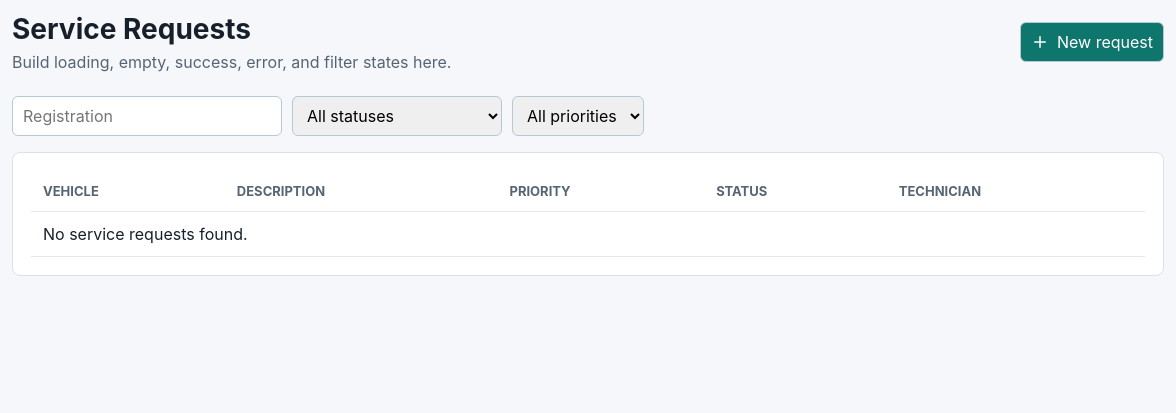
ServiceRequestsPage training exercises › shows success feedback and reloads requests after opening a request
Click the button "New request" at (1092, 42), box [1020,22,1164,62]
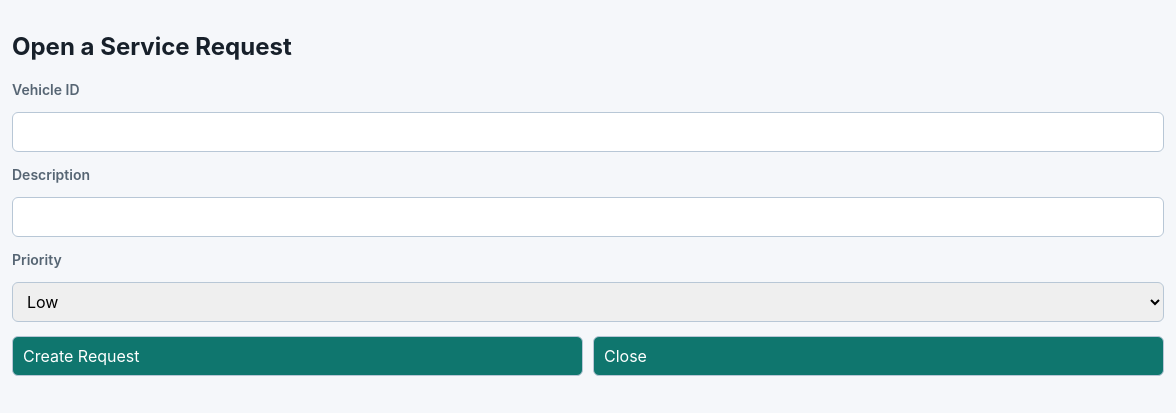
Type "550e8400-e29b-41d4-a716-446655440000" into the field labelled "Vehicle ID" at (588, 132), box [12,112,1164,152]
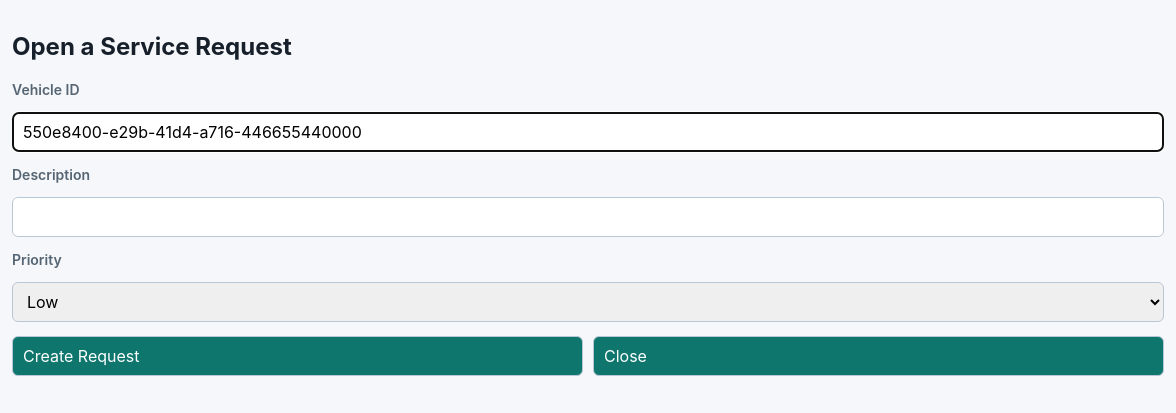
Type "Investigate brake noise" into the field labelled "Description" at (588, 217), box [12,197,1164,237]
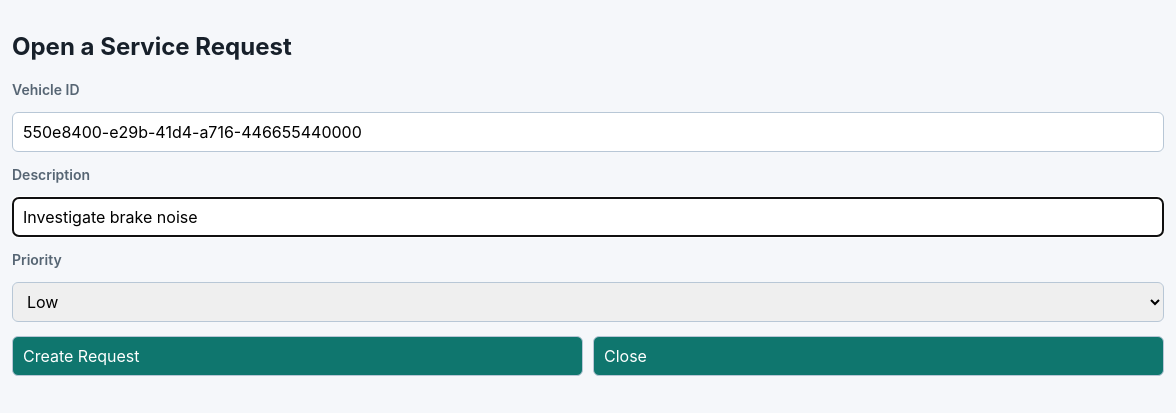
Click the button "Create Request" at (81, 356), box [12,336,583,376]
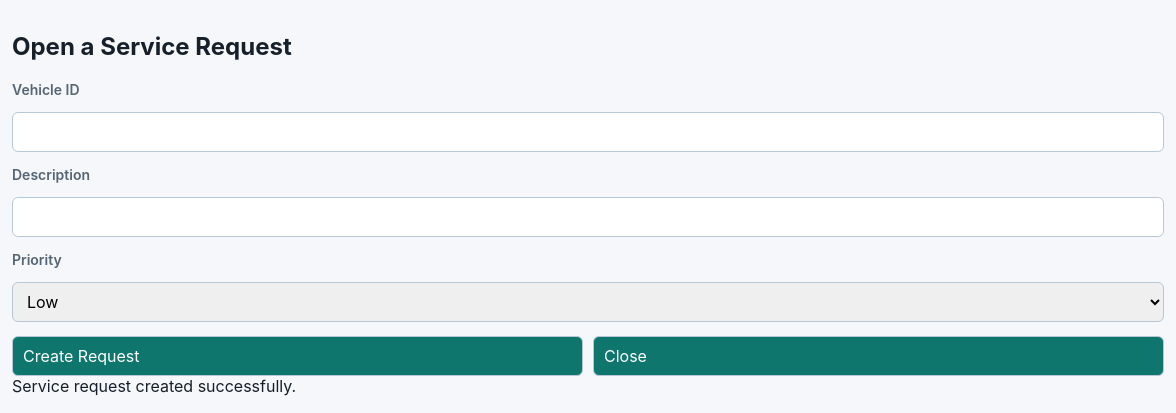
expect the message shows "Service request created successfully": met, box [12,376,296,396]
